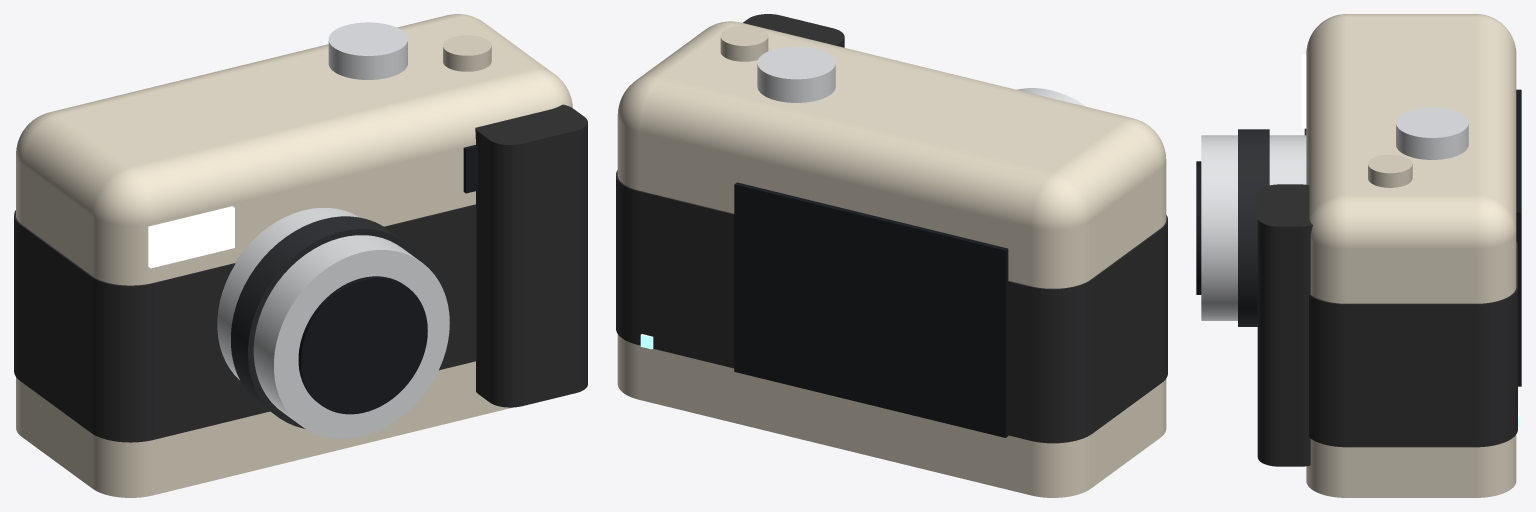
3 views of the same model, side by side, from view 1: azimuth 30°, elevation 25°; view 2: azimuth 150°, elevation 25°; view 3: azimuth 270°, elevation 25° (orthographic). The views are drawn at different scales.
Parts seen in each view (by area): view 1: body.1, rubber.1, rubber.2, metal.1, glass.1, coat.1, metal.2, diffuser.1, button.1, glass.3; view 2: body.1, glass.2, rubber.1, metal.2, rubber.2, button.1; view 3: body.1, rubber.1, rubber.2, metal.1, coat.1, metal.2, glass.2, button.1, glass.1, diffuser.1.
Boxes of the visible parts, x1,y1,x2,y2 form: body.1: (16, 14, 572, 497); rubber.1: (14, 204, 476, 442); rubber.2: (475, 104, 587, 407); metal.1: (217, 208, 449, 438); glass.1: (298, 276, 427, 414); coat.1: (231, 216, 424, 428); metal.2: (328, 22, 407, 79); diffuser.1: (148, 206, 234, 268); button.1: (443, 35, 491, 71); glass.3: (463, 145, 477, 193); body.1: (617, 21, 1166, 497); glass.2: (734, 182, 1008, 437); rubber.1: (616, 170, 1167, 443); metal.2: (757, 46, 835, 102); rubber.2: (743, 14, 844, 47); button.1: (720, 25, 768, 61); body.1: (1306, 14, 1516, 497); rubber.1: (1304, 128, 1517, 447); rubber.2: (1257, 184, 1312, 466); metal.1: (1201, 135, 1306, 320); coat.1: (1238, 129, 1269, 326); metal.2: (1396, 107, 1468, 159); glass.2: (1516, 89, 1521, 386); button.1: (1368, 154, 1412, 187); glass.1: (1196, 161, 1201, 294); diffuser.1: (1301, 54, 1306, 128).
Size of the model in its own units: 0.1248 by 0.084 by 0.0805.
